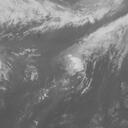cyclone: (54, 50, 91, 89)
